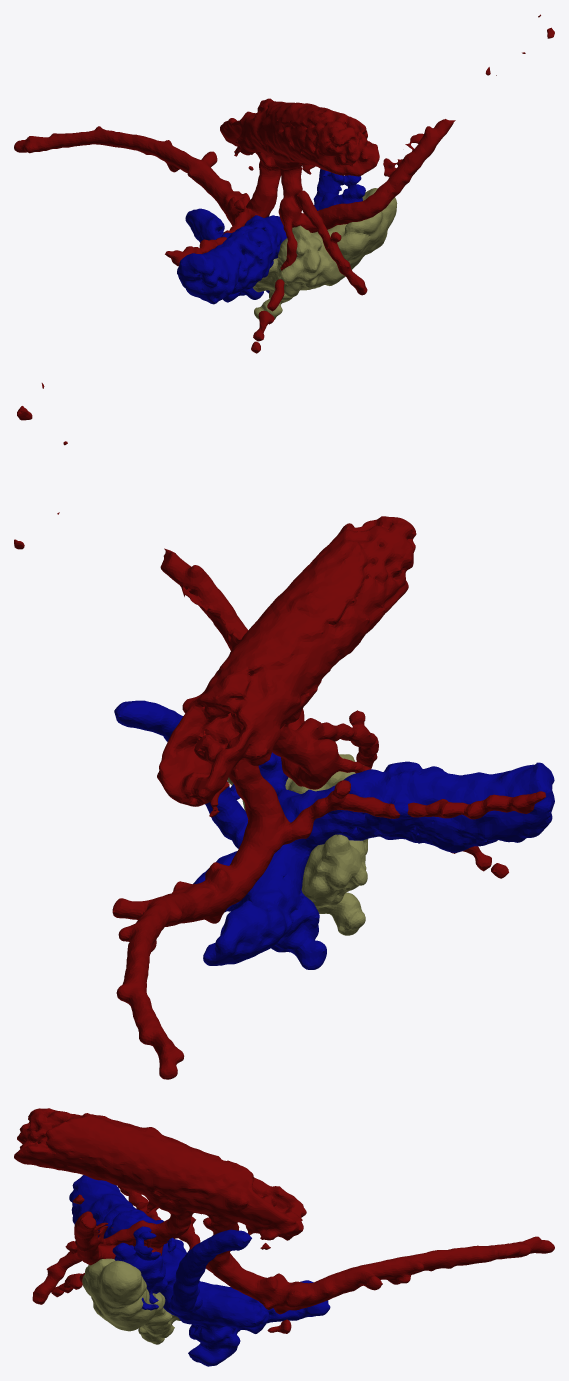
The model's file is modelo-demo.glb.
3 renders of one model, top to bottom at view 1: azimuth 30°, elevation 25°; view 2: azimuth 150°, elevation 25°; view 3: azimuth 270°, elevation 25°, orthographic. The views are drawn at different scales.
Parts seen in each view (by area): view 1: Arteria, Vena, ADK; view 2: Arteria, Vena, ADK; view 3: Arteria, Vena, ADK.
Boxes of the visible parts, x1,y1,x2,y2 form: Arteria: [14, 14, 554, 353]; Vena: [177, 168, 365, 304]; ADK: [253, 188, 397, 319]; Arteria: [14, 383, 545, 1079]; Vena: [114, 700, 554, 969]; ADK: [227, 754, 368, 935]; Arteria: [14, 1108, 554, 1333]; Vena: [69, 1175, 330, 1366]; ADK: [82, 1258, 180, 1344].
Bounding box in the file's own units: 171 × 125 × 203.
